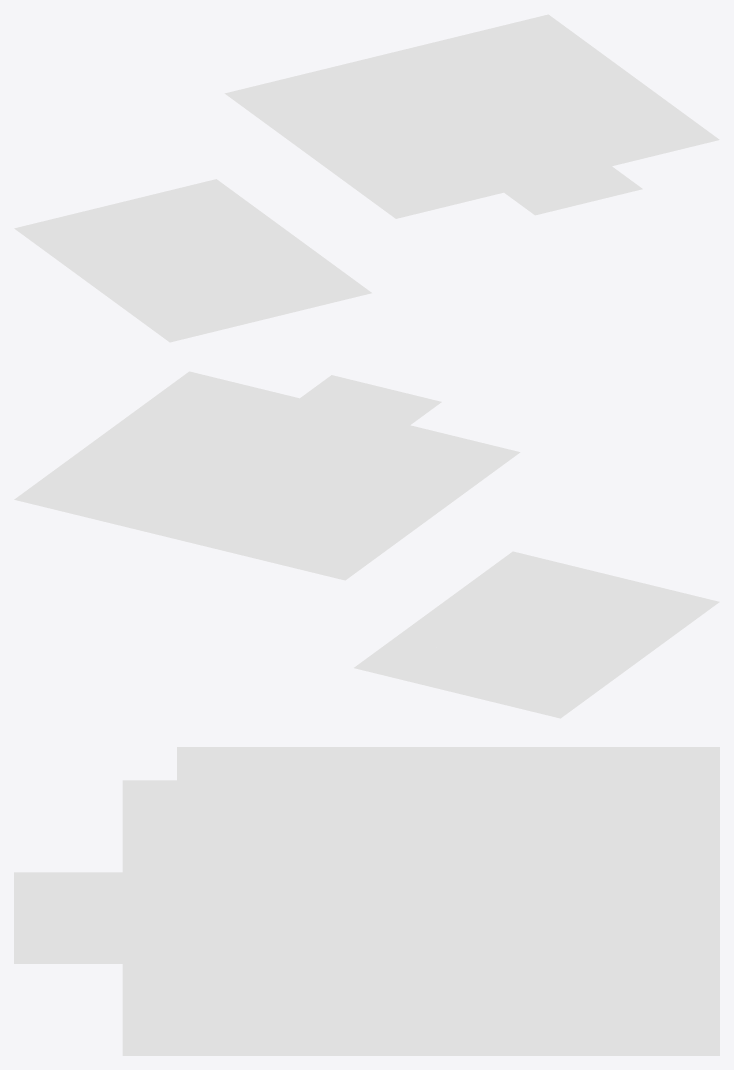
File: 2ndCeiling.fbx
3 views of the same model, one above another, from view 1: azimuth 30°, elevation 25°; view 2: azimuth 150°, elevation 25°; view 3: azimuth 270°, elevation 25° (orthographic). The views are drawn at different scales.
Visible parts, largest first — view 1: Ceiling_3m.006, Ceiling_3m.007, Ceiling_3m.002, Ceiling_3m.008, Ceiling_3m.011, Ceiling_3m, Ceiling_3m.004, Ceiling_3m.012, Ceiling_3m.015, Ceiling_3m.017, Ceiling_3m.001, Ceiling_3m.009 (+17 smaller); view 2: Ceiling_3m.009, Ceiling_3m.008, Ceiling_3m, Ceiling_3m.010, Ceiling_3m.013, Ceiling_3m.016, Ceiling_3m.017, Ceiling_3m.001, Ceiling_3m.002, Ceiling_3m.003, Ceiling_3m.005, Ceiling_3m.006 (+17 smaller); view 3: Ceiling_3m.007, Ceiling_3m.008, Ceiling_3m.010, Ceiling_3m.001, Ceiling_3m.009, Ceiling_3m.002, Ceiling_3m.003, Ceiling_3m.005, Ceiling_3m.006, Ceiling_3m.011, Ceiling_3m, Ceiling_3m.004 (+36 smaller).
Part boxes in pixels (x1,y1,x2,y2): Ceiling_3m.006: (306, 54, 432, 107); Ceiling_3m.007: (224, 73, 351, 127); Ceiling_3m.002: (514, 48, 641, 102); Ceiling_3m.008: (271, 108, 398, 161); Ceiling_3m.011: (433, 68, 560, 122); Ceiling_3m: (399, 122, 526, 176); Ceiling_3m.004: (480, 102, 607, 156); Ceiling_3m.012: (14, 208, 141, 262); Ceiling_3m.015: (61, 243, 188, 296); Ceiling_3m.017: (189, 257, 315, 311); Ceiling_3m.001: (468, 14, 594, 68); Ceiling_3m.009: (353, 88, 479, 141); Ceiling_3m.009: (227, 470, 357, 525); Ceiling_3m.008: (310, 490, 440, 545); Ceiling_3m: (275, 435, 405, 490); Ceiling_3m.010: (358, 455, 488, 510); Ceiling_3m.013: (395, 643, 524, 698); Ceiling_3m.016: (574, 593, 703, 648); Ceiling_3m.017: (491, 573, 620, 628); Ceiling_3m.001: (14, 465, 143, 519); Ceiling_3m.002: (62, 430, 191, 484); Ceiling_3m.003: (110, 394, 239, 449); Ceiling_3m.005: (97, 485, 226, 539); Ceiling_3m.006: (180, 505, 309, 560); Ceiling_3m.007: (557, 780, 719, 849); Ceiling_3m.008: (394, 780, 556, 849); Ceiling_3m.010: (231, 780, 393, 849); Ceiling_3m.001: (557, 987, 719, 1055); Ceiling_3m.009: (394, 849, 556, 917); Ceiling_3m.002: (394, 987, 556, 1055); Ceiling_3m.003: (231, 987, 393, 1055); Ceiling_3m.005: (557, 918, 719, 986); Ceiling_3m.006: (557, 849, 719, 917); Ceiling_3m.011: (394, 918, 556, 986); Ceiling_3m: (231, 849, 393, 917); Ceiling_3m.004: (231, 918, 393, 986).
Bounding box in the file's own units: 1980 × 296 × 1300.
